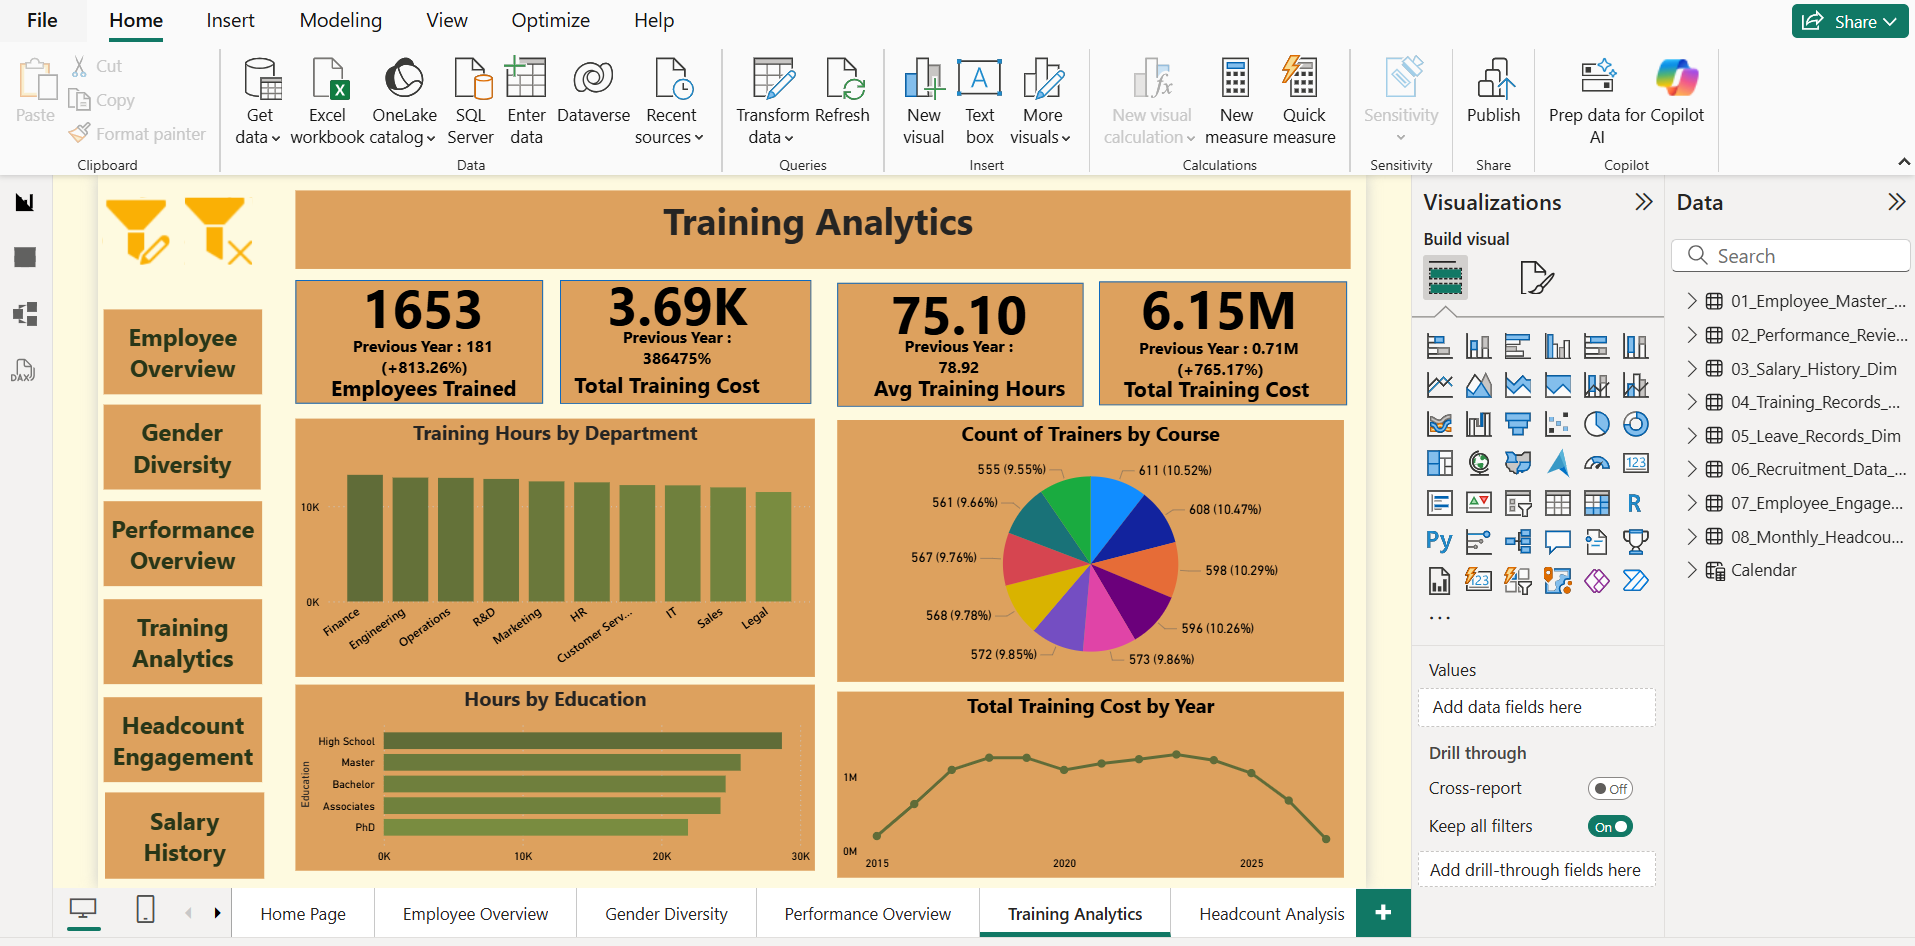

The page's visual inventory and layout, read from the dashboard file:
{"tool":"powerbi","page":{"name":"Training Analytics","canvas":[1280,720],"ordinal":4},"visuals":[{"type":"textbox","box":[199.2,15.5,1065.3,79.1],"z":0},{"type":"shape","box":[199.6,106.2,250,124.9],"z":0,"group":"g2"},{"type":"shape","box":[466.1,106.8,253.8,125.2],"z":0,"group":"g5"},{"type":"shape","box":[1009.8,106.8,250.4,125.2],"z":0,"group":"g4"},{"type":"shape","box":[746.1,108.3,248.7,125.2],"z":0,"group":"g3"},{"type":"actionButton","box":[6.1,135.8,159.7,86],"z":0,"group":"g1"},{"type":"textbox","box":[458.5,192.3,230.1,55.8],"z":1000,"group":"g5"},{"type":"textbox","box":[762.7,194.6,232.8,54.3],"z":1000,"group":"g3"},{"type":"textbox","box":[212.3,195.9,233.8,53.7],"z":1000,"group":"g2"},{"type":"textbox","box":[1019.5,196.8,217.2,52],"z":1000,"group":"g4"},{"type":"actionButton","box":[6.1,232.2,158.3,86],"z":1000,"group":"g1"},{"type":"pieChart","title":"Count of Trainers by Course","fields":{"Category":["04_Training_Records_Dim.CourseName"],"Y":["CountNonNull(04_Training_Records_Dim.TrainingID)"]},"box":[746,247.3,511.5,264.2],"z":1000},{"type":"kpi","fields":{"TrendLine":["01_Employee_Master_Fact.DummyDate"],"Goal":["04_Training_Records_Dim.Total Training Cost PY"],"Indicator":["04_Training_Records_Dim.Total Training Cost"]},"box":[1027,103,208.1,103.2],"z":2000,"group":"g4"},{"type":"kpi","fields":{"TrendLine":["01_Employee_Master_Fact.DummyDate"],"Indicator":["04_Training_Records_Dim.Total Employees Trained"],"Goal":["04_Training_Records_Dim.Total Employees Trained PY"]},"box":[231.1,104.8,195.2,98.1],"z":2000,"group":"g2"},{"type":"kpi","fields":{"TrendLine":["01_Employee_Master_Fact.DummyDate"],"Goal":["04_Training_Records_Dim.Cost Per Employee PY"],"Indicator":["04_Training_Records_Dim.Cost per Employee"]},"box":[510.3,104.9,145.9,91.5],"z":2000,"group":"g5"},{"type":"kpi","fields":{"TrendLine":["01_Employee_Master_Fact.DummyDate"],"Indicator":["04_Training_Records_Dim.Average training Hours per Employee"],"Goal":["04_Training_Records_Dim.Avg Training Hours PY"]},"box":[793.9,109.3,149.5,98.1],"z":2000,"group":"g3"},{"type":"columnChart","fields":{"Category":["employee data.Department"],"Y":["04_Training_Records_Dim.Training Hours"]},"box":[199.6,245.3,524.5,260.5],"z":2000},{"type":"actionButton","box":[6.1,527.1,159.7,86],"z":2000,"group":"g1"},{"type":"actionButton","box":[6.1,427.8,159.7,86],"z":3000,"group":"g1"},{"type":"clusteredBarChart","title":"Hours by Education","fields":{"Category":["employee data.Education"],"Y":["Sum(04_Training_Records_Dim.Duration_Hours)"]},"box":[199.6,514.3,524.5,187.8],"z":3000},{"type":"actionButton","box":[6.1,330,159.7,86],"z":4000,"group":"g1"},{"type":"lineChart","fields":{"Category":["04_Training_Records_Dim.StartDate.Variation.Date Hierarchy.Year","04_Training_Records_Dim.StartDate.Variation.Date Hierarchy.Quarter","04_Training_Records_Dim.StartDate.Variation.Date Hierarchy.Month","04_Training_Records_Dim.StartDate.Variation.Date Hierarchy.Day"],"Y":["04_Training_Records_Dim.Total Training Cost"]},"box":[746,521.4,511.5,187.9],"z":5000},{"type":"actionButton","box":[6.9,623.3,160.5,87],"z":5000,"group":"g1"},{"type":"group","id":"g1","title":"Menu Buttons","box":[6.1,135.8,161.4,574.5],"z":6000},{"type":"actionButton","box":[0,18.4,79.1,76.3],"z":7000},{"type":"actionButton","box":[83.3,17.7,79.8,76.2],"z":8000},{"type":"group","id":"g2","title":"Kpi","box":[199.6,104.8,250,144.8],"z":10000},{"type":"group","id":"g3","title":"Kpi","box":[746.1,108.3,250.4,140.4],"z":11000},{"type":"group","id":"g4","title":"Kpi","box":[1009.8,103,250.4,145.9],"z":12000},{"type":"group","id":"g5","title":"Kpi","box":[458.5,104.9,261.4,143.3],"z":13000}]}

Visuals, with their boxes on the page's 1280x720 design canvas (x1, y1, x2, y2). These are canvas units, not pixel positions in the 1915x946 screenshot, which may show the page scaled, cropped or inside an application window:
textbox: 199 16 1264 95
shape: 200 106 450 231
shape: 466 107 720 232
shape: 1010 107 1260 232
shape: 746 108 995 234
actionButton: 6 136 166 222
textbox: 458 192 689 248
textbox: 763 195 996 249
textbox: 212 196 446 250
textbox: 1020 197 1237 249
actionButton: 6 232 164 318
"Count of Trainers by Course" pieChart: 746 247 1258 512
kpi - 01_Employee_Master_Fact.DummyDate x 04_Training_Records_Dim.Total Training Cost PY: 1027 103 1235 206
kpi - 01_Employee_Master_Fact.DummyDate x 04_Training_Records_Dim.Total Employees Trained: 231 105 426 203
kpi - 01_Employee_Master_Fact.DummyDate x 04_Training_Records_Dim.Cost Per Employee PY: 510 105 656 196
kpi - 01_Employee_Master_Fact.DummyDate x 04_Training_Records_Dim.Average training Hours per Employee: 794 109 943 207
columnChart - employee data.Department x 04_Training_Records_Dim.Training Hours: 200 245 724 506
actionButton: 6 527 166 613
actionButton: 6 428 166 514
"Hours by Education" clusteredBarChart: 200 514 724 702
actionButton: 6 330 166 416
lineChart - 04_Training_Records_Dim.StartDate.Variation.Date Hierarchy.Year x 04_Training_Records_Dim.StartDate.Variation.Date Hierarchy.Quarter: 746 521 1258 709
actionButton: 7 623 167 710
"Menu Buttons" group: 6 136 168 710
actionButton: 0 18 79 95
actionButton: 83 18 163 94
"Kpi" group: 200 105 450 250
"Kpi" group: 746 108 996 249
"Kpi" group: 1010 103 1260 249
"Kpi" group: 458 105 720 248
